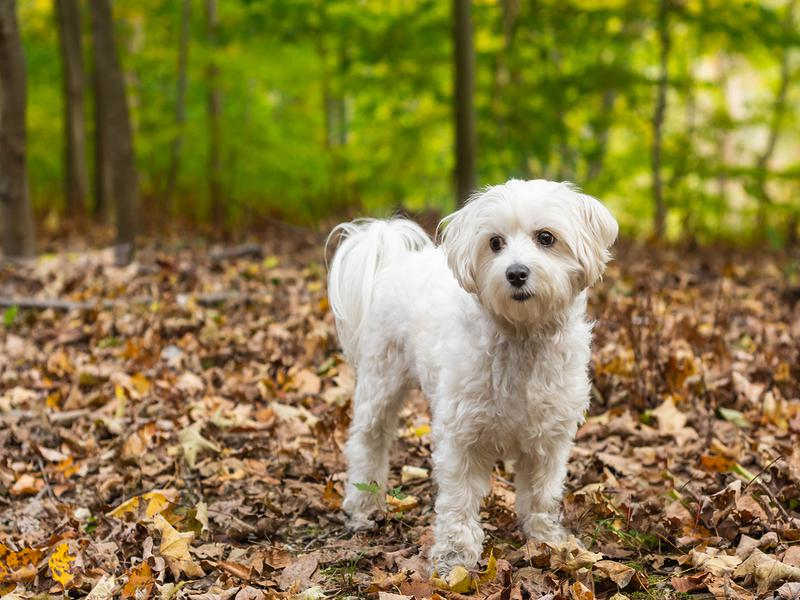dog_stand: (318, 175, 625, 585)
